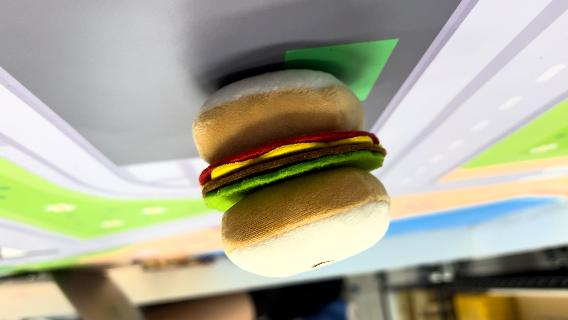sandwich: (189, 66, 394, 278)
